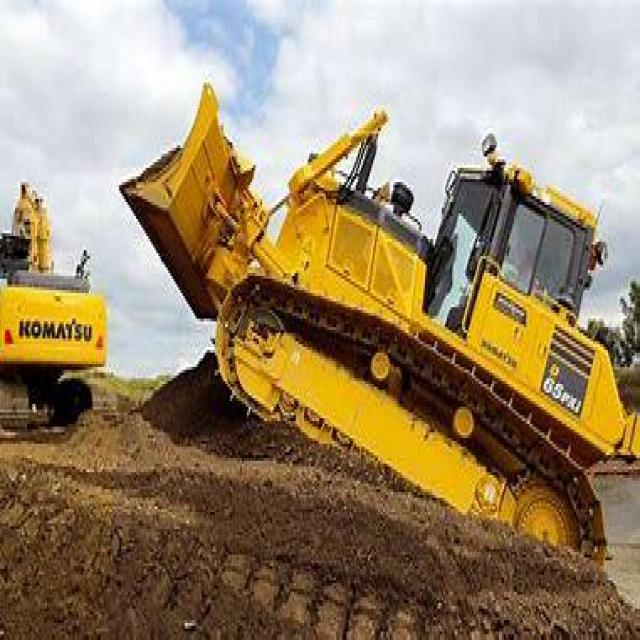Bulldozer: (104, 68, 638, 600)
